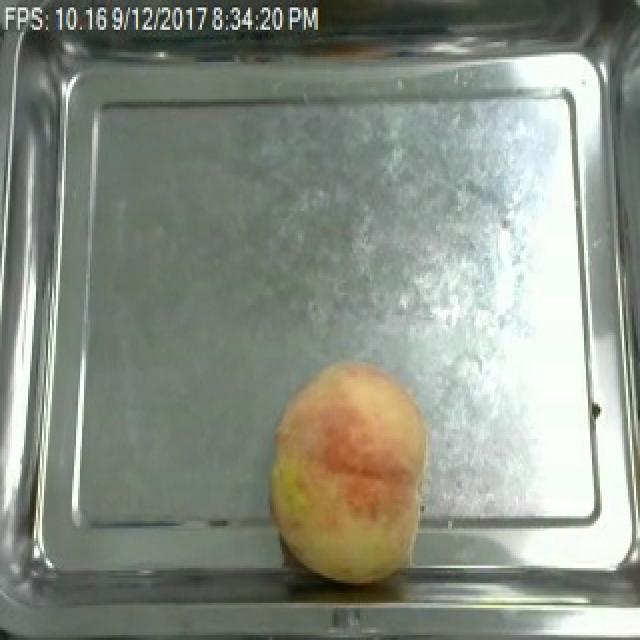Fruit: (262, 350, 442, 593)
